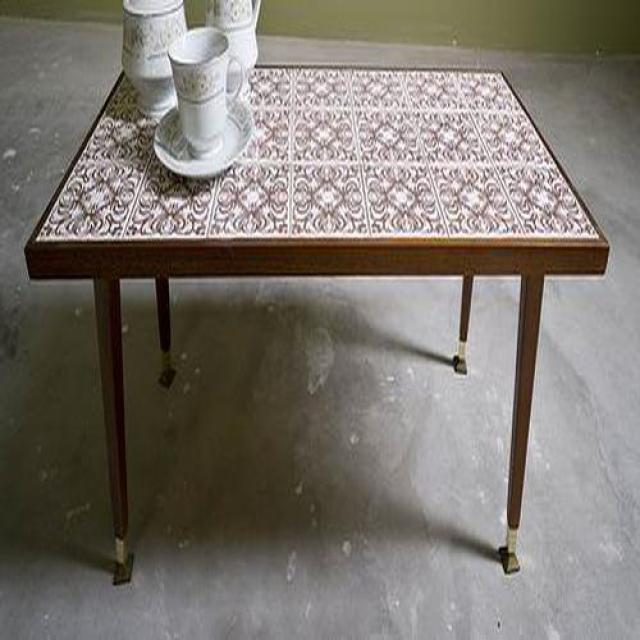table: (23, 67, 611, 585)
